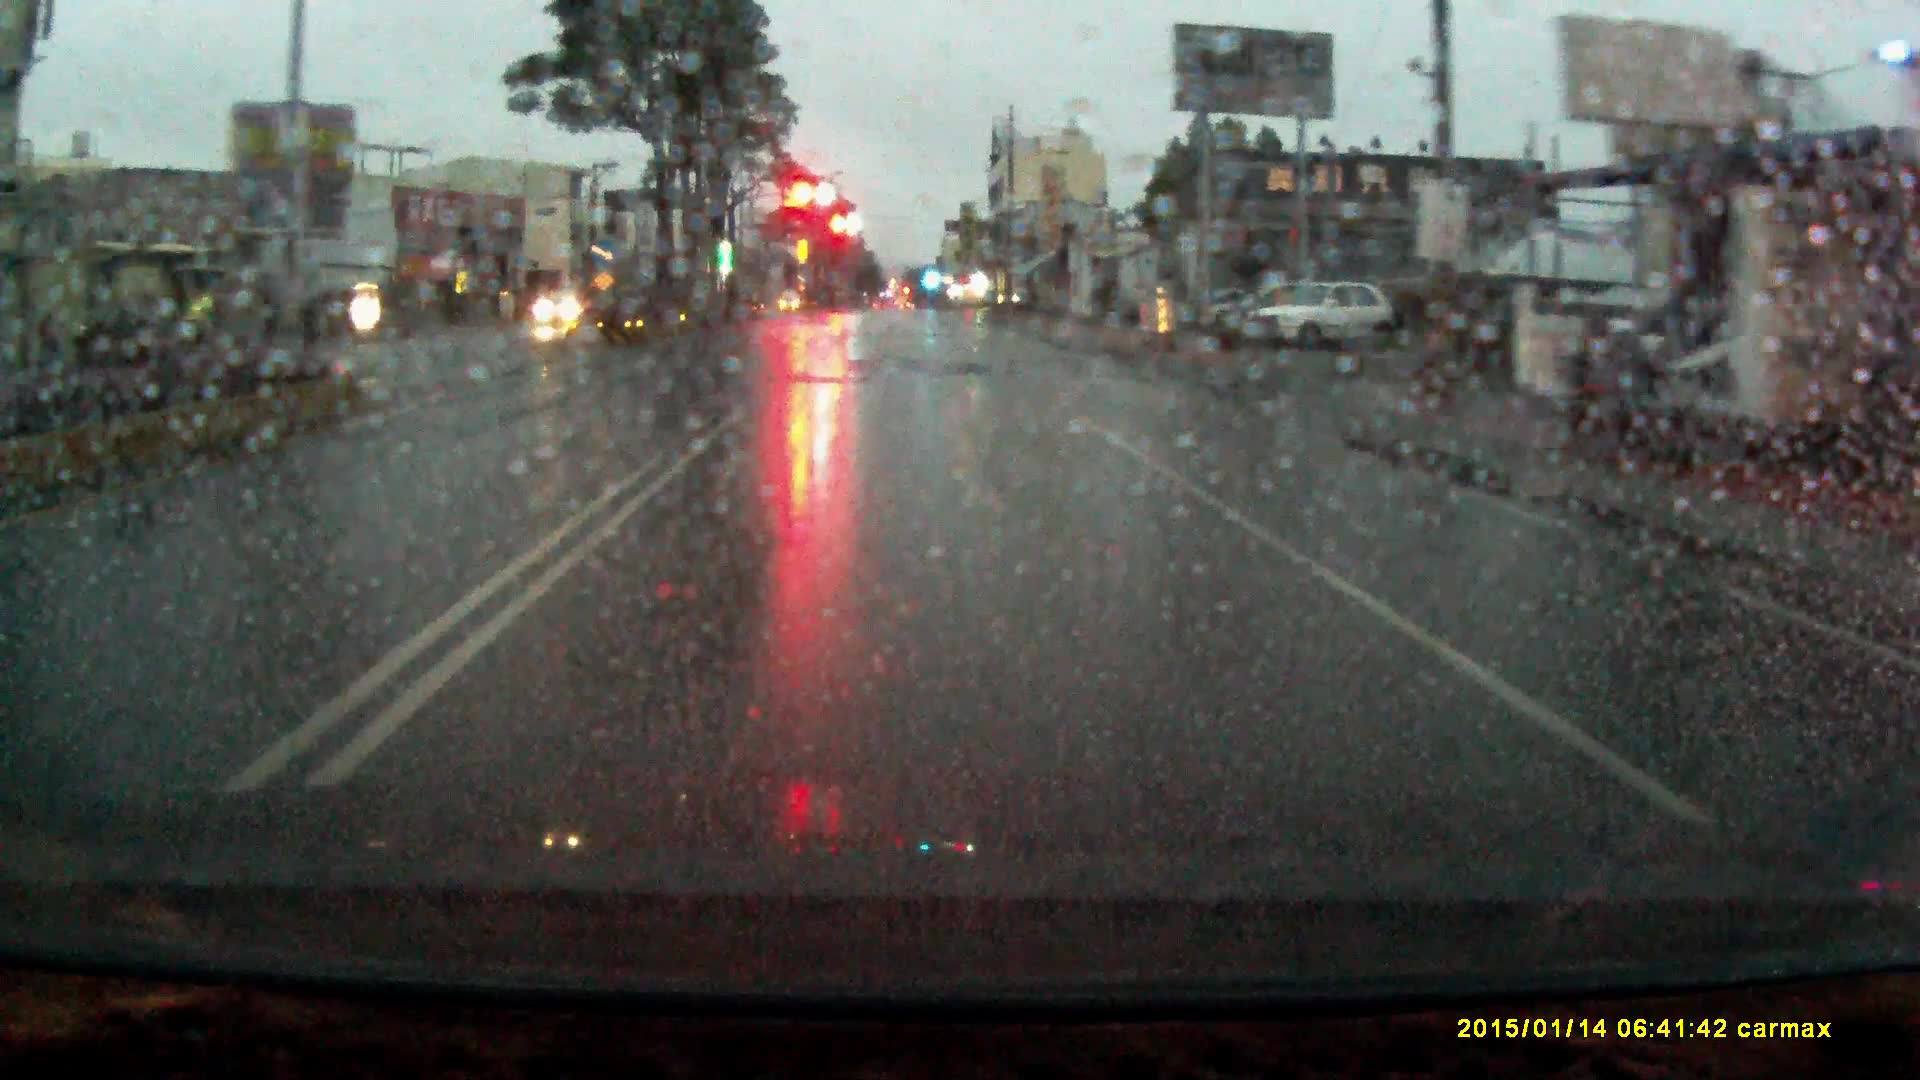vehicle: (1240, 276, 1399, 348), (1215, 282, 1338, 348), (538, 289, 595, 328), (996, 286, 1040, 313)
